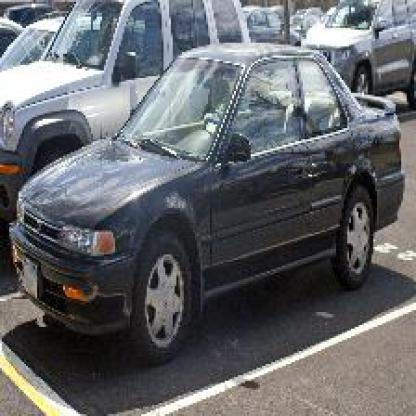not_emergency: (20, 45, 396, 364)
